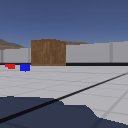blue_cube: (20, 64, 30, 71)
obstacle: (31, 39, 67, 66)
red_cube: (8, 63, 15, 69), (5, 63, 8, 67)
